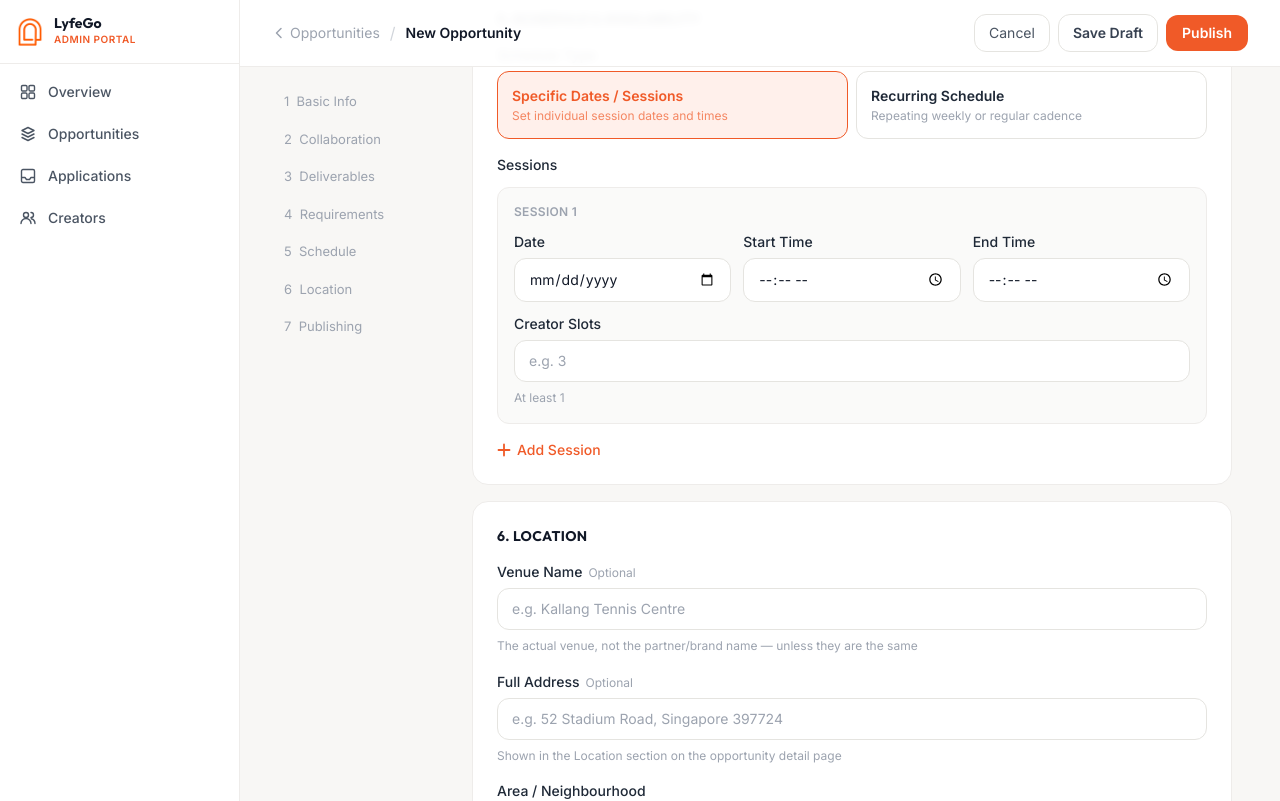
it: Create Opportunity › switches between session rows and the recurring schedule
This screenshot has width=1280, height=801.
(page scrolled)
Click the button "Add Session" at (549, 450), box [497,440,601,460]
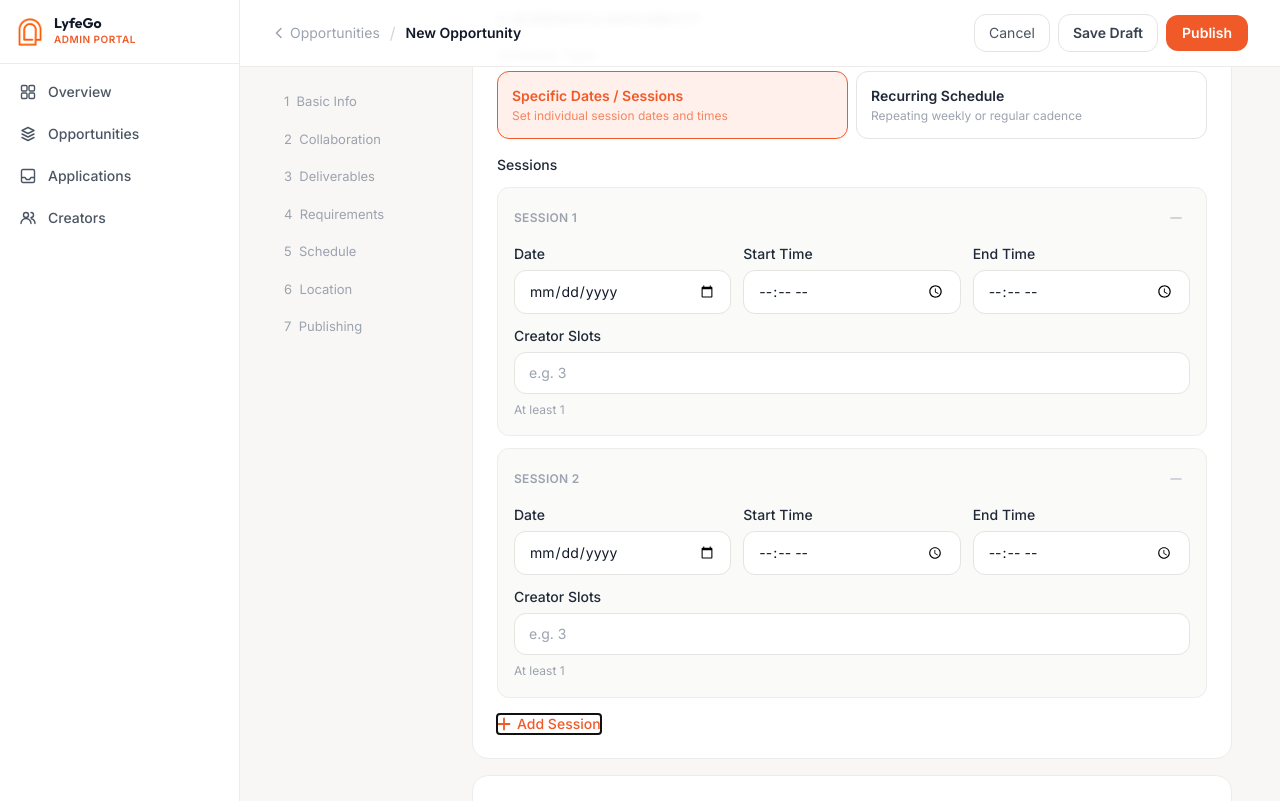
Click the button named "Remove session 2" at (1176, 479), box [1162,465,1190,493]
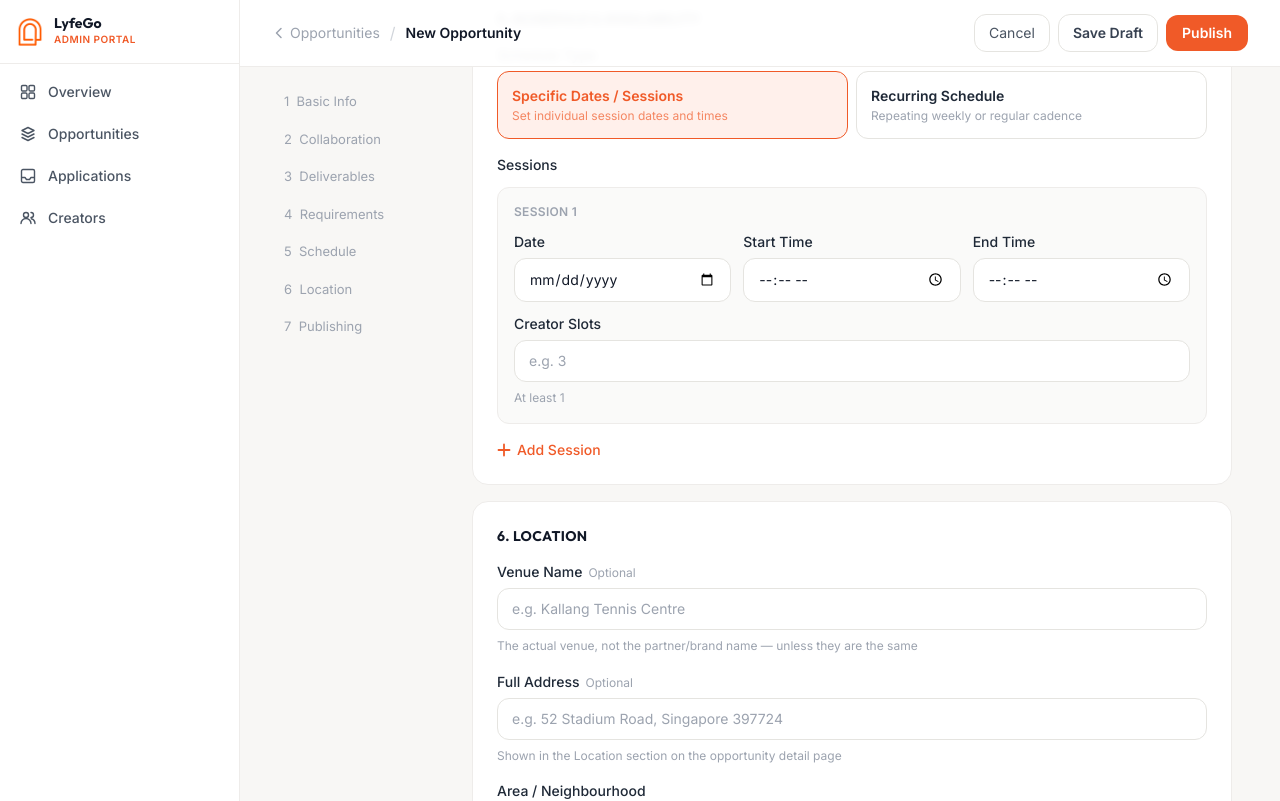
Expected: the field labelled "Day(s) of Week" is not shown
Click the button "Recurring Schedule Repeating weekly or regular cadence" at (1032, 104), box [856,70,1207,138]
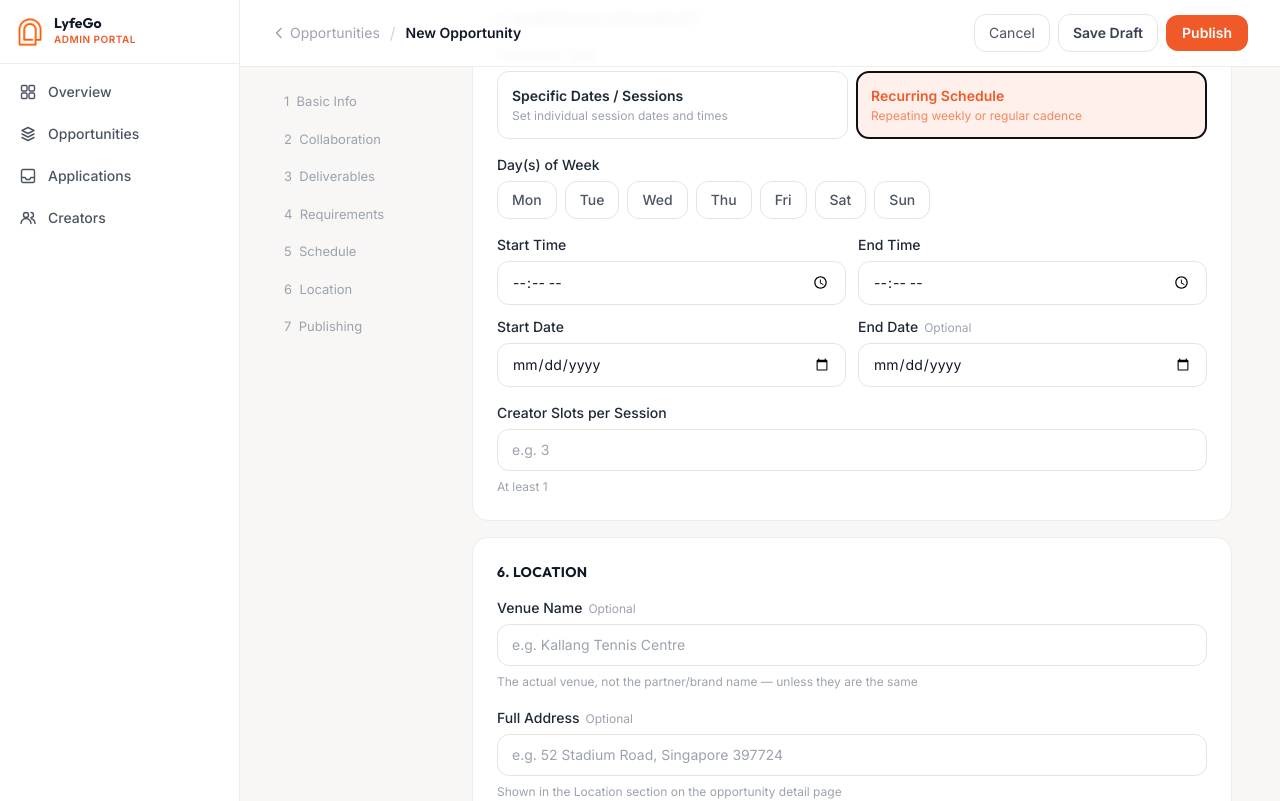
Now the text "Session 1" is gone
Click the button "Sat" at (840, 200), box [815,180,866,218]
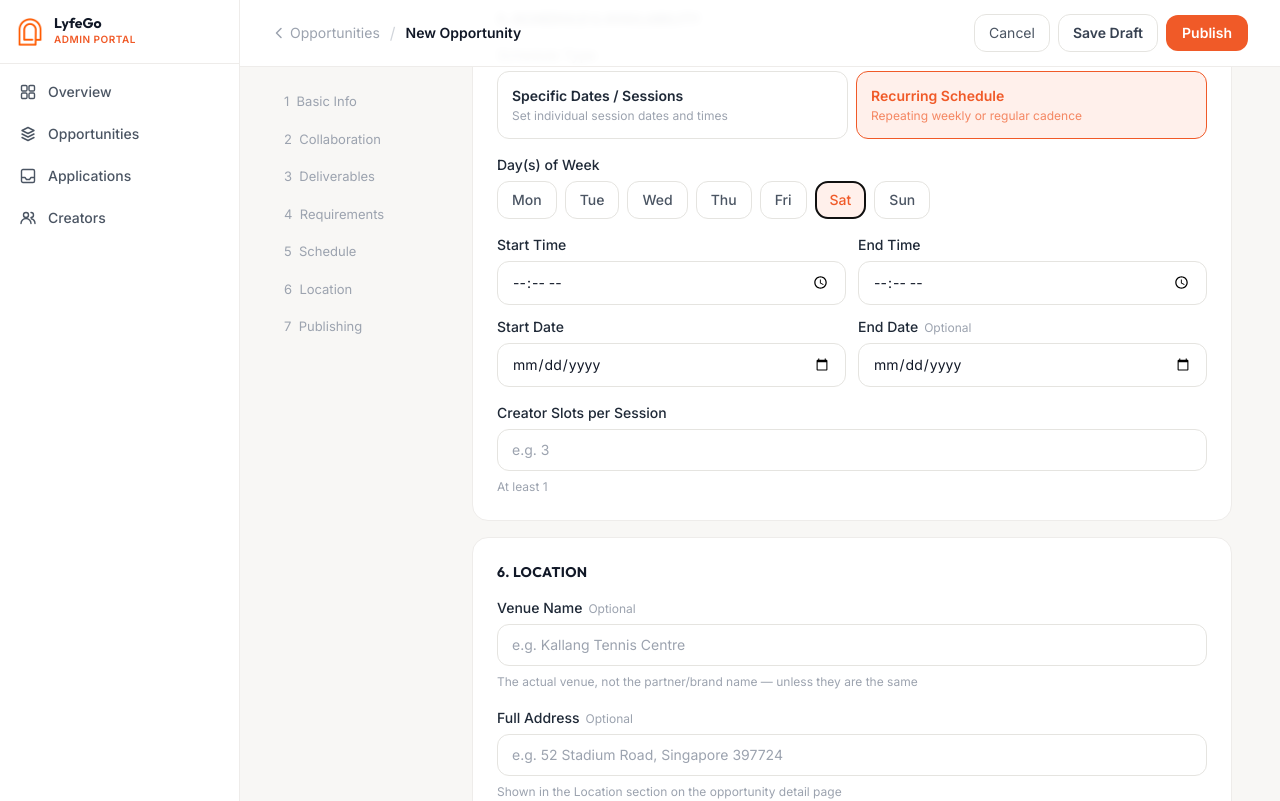
Click the button "Tue" at (592, 200), box [565,180,620,218]
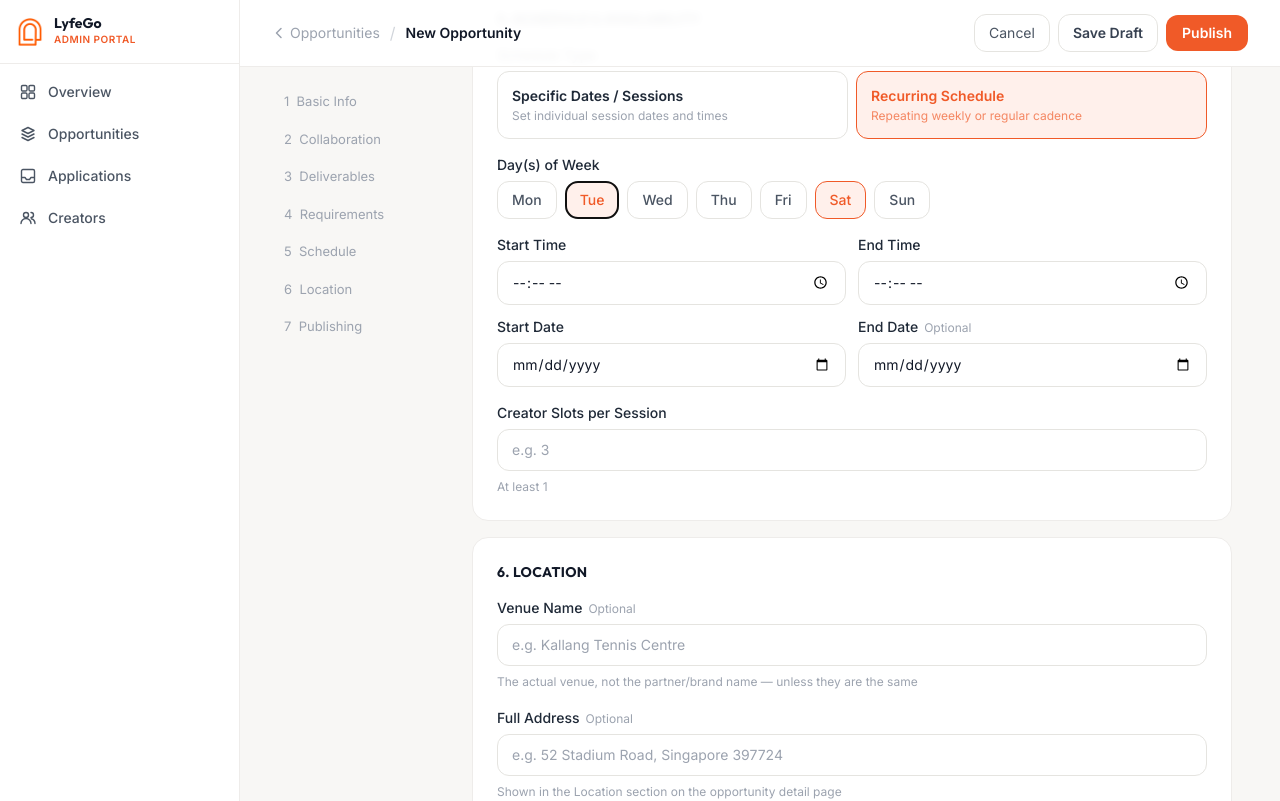
Type "4" into the number field labelled "Creator Slots per Session" at (852, 450), box [497,428,1207,470]
Click the button "Save Draft" at (1108, 33), box [1058,14,1158,52]
(page scrolled)
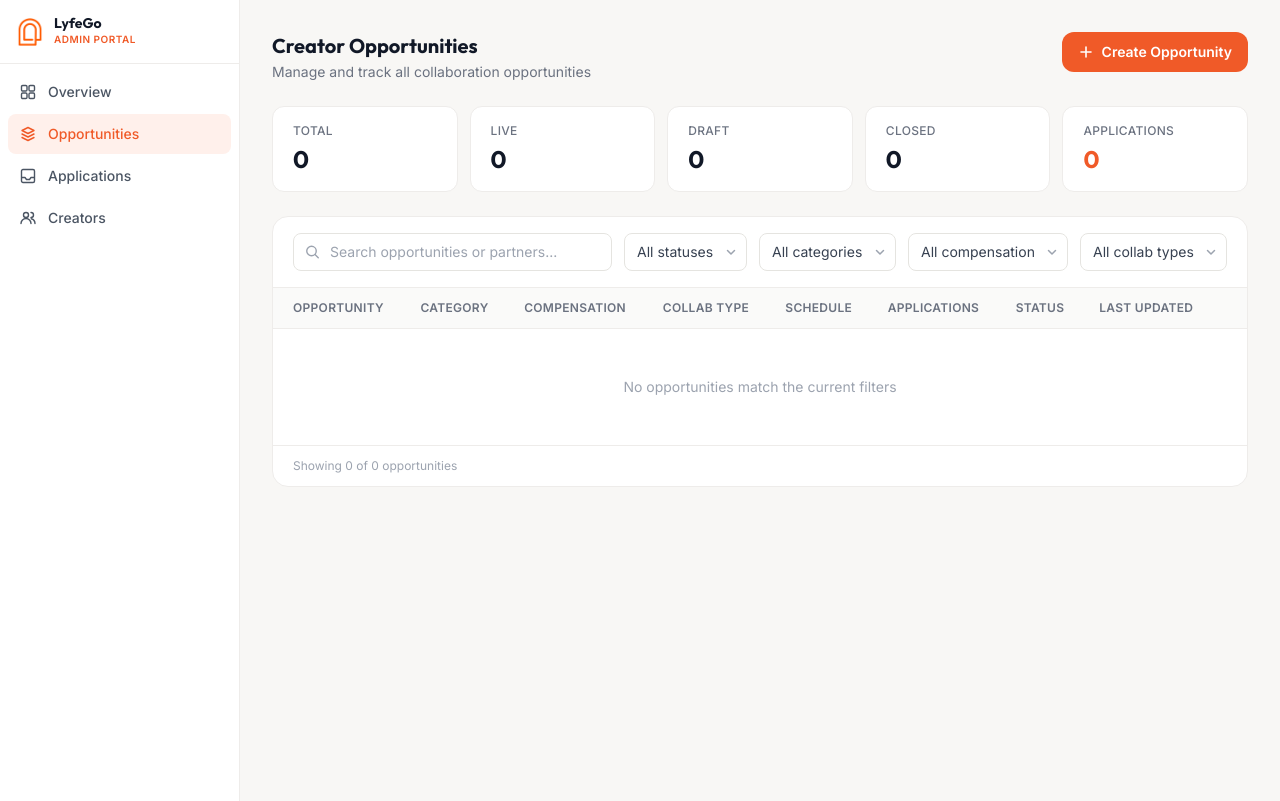
Now the heading "Creator Opportunities" is shown, box [272,33,478,58]
